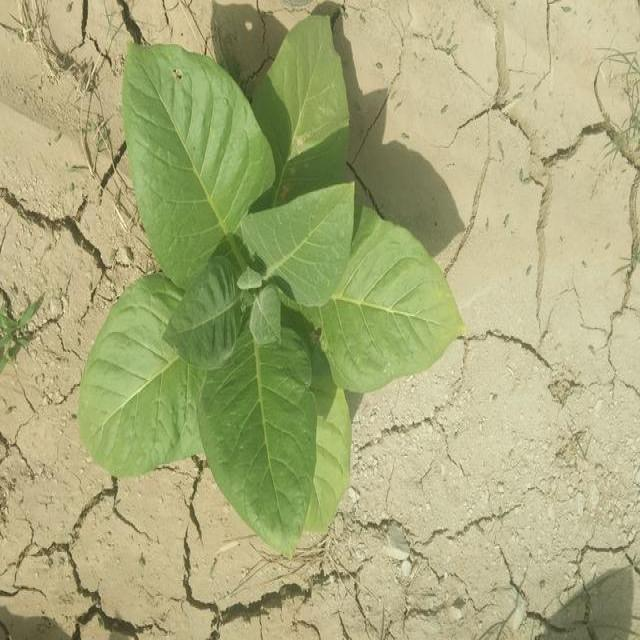crop: (77, 26, 459, 543)
